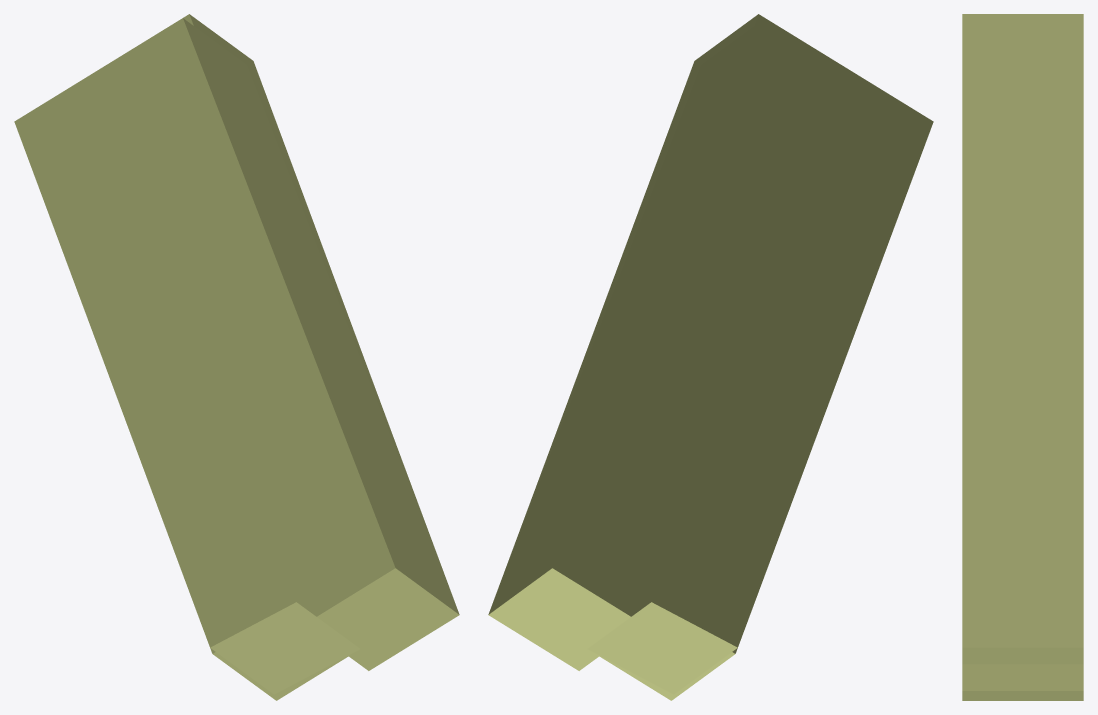
3 views of the same model, side by side, from view 1: azimuth 30°, elevation 25°; view 2: azimuth 150°, elevation 25°; view 3: azimuth 270°, elevation 25° (orthographic). The views are drawn at different scales.
Visible parts, largest first — view 1: 0_1_3_2_2_2_1_2_0; view 2: 0_1_3_2_2_2_1_2_0; view 3: 0_1_3_2_2_2_1_2_0.
Part boxes in pixels (x1,y1,x2,y2): 0_1_3_2_2_2_1_2_0: (14, 14, 459, 700); 0_1_3_2_2_2_1_2_0: (488, 14, 933, 700); 0_1_3_2_2_2_1_2_0: (962, 14, 1083, 700).
Bounding box in the file's own units: 20.6 × 33.33 × 6.
